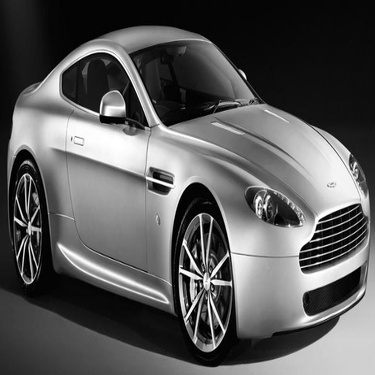car: (4, 24, 369, 366)
